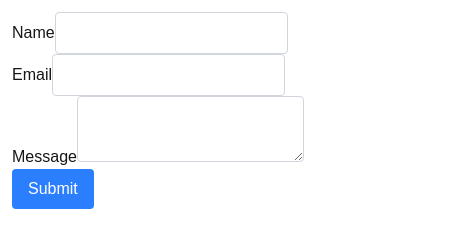
ContactForm › should display error when message loses focus and value is empty
Click the text box labelled "Message": (190, 129) [77,96,304,162]
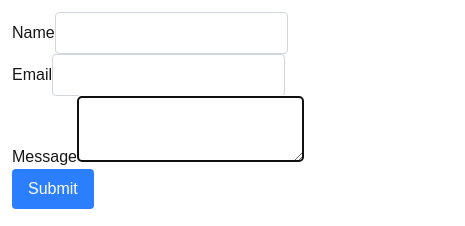
Press Tab
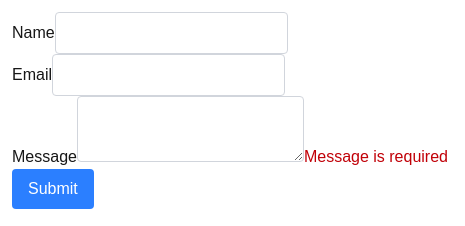
Check: the text "Message is required" is shown, box [304,148,448,165]
